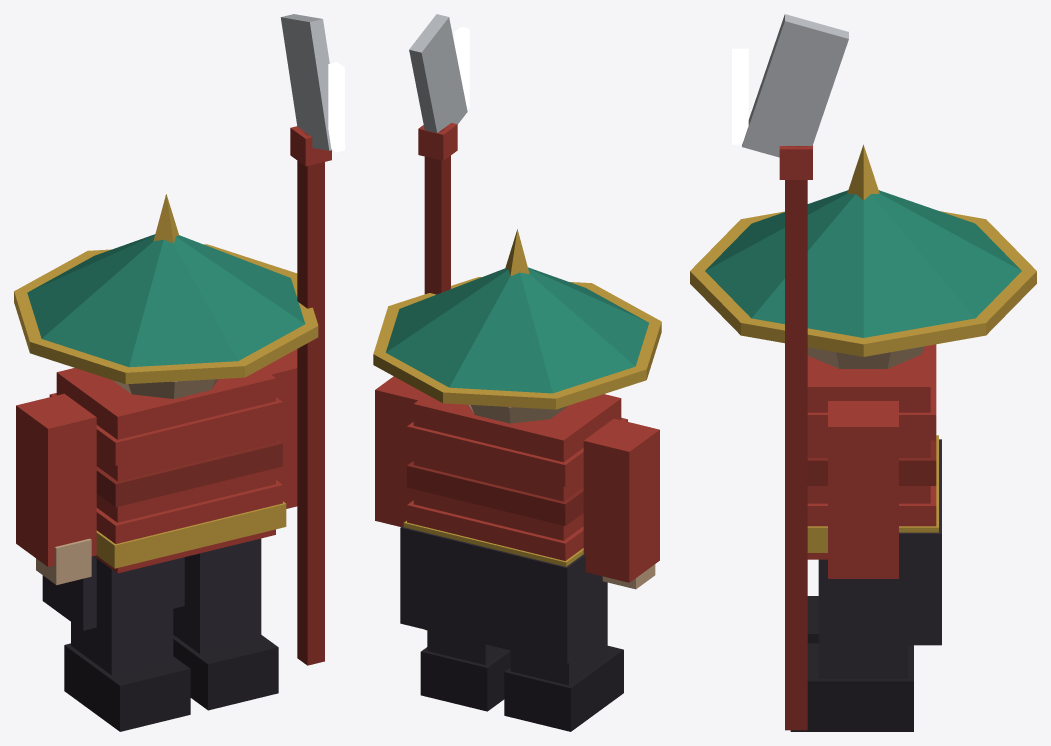
Rendered from unit_soldier.glb.
3 renders of one model, left to right at view 1: azimuth 30°, elevation 25°; view 2: azimuth 150°, elevation 25°; view 3: azimuth 270°, elevation 25°, orthographic. The views are drawn at different scales.
Parts seen in each view (by area): view 1: body, arm_r, leg_l, arm_l, leg_r, glow; view 2: body, arm_r, arm_l, leg_l, leg_r, glow; view 3: body, arm_r, leg_r, glow, leg_l.
Boxes of the visible parts, <box> form: body: <box>14,194,318,630</box>; arm_r: <box>262,14,331,665</box>; leg_l: <box>64,558,190,731</box>; arm_l: <box>16,393,96,585</box>; leg_r: <box>173,538,278,710</box>; glow: <box>328,62,344,152</box>; body: <box>373,229,661,663</box>; arm_r: <box>375,14,467,630</box>; arm_l: <box>583,418,659,589</box>; leg_l: <box>504,582,623,731</box>; leg_r: <box>420,630,510,711</box>; glow: <box>454,26,469,108</box>; body: <box>690,144,1036,645</box>; arm_r: <box>742,14,898,730</box>; leg_r: <box>790,559,913,731</box>; glow: <box>732,48,748,144</box>; leg_l: <box>807,596,818,643</box>.
Bounding box in the file's own units: 0.62 × 1.45 × 0.62.
